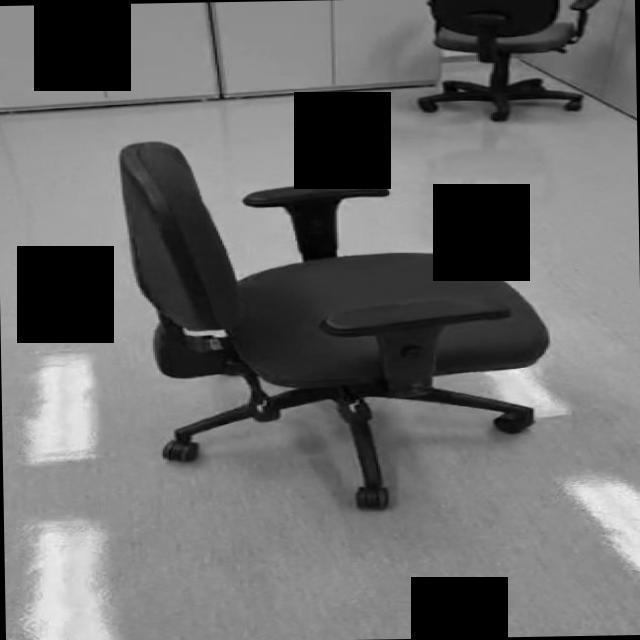chair: (120, 133, 550, 514)
